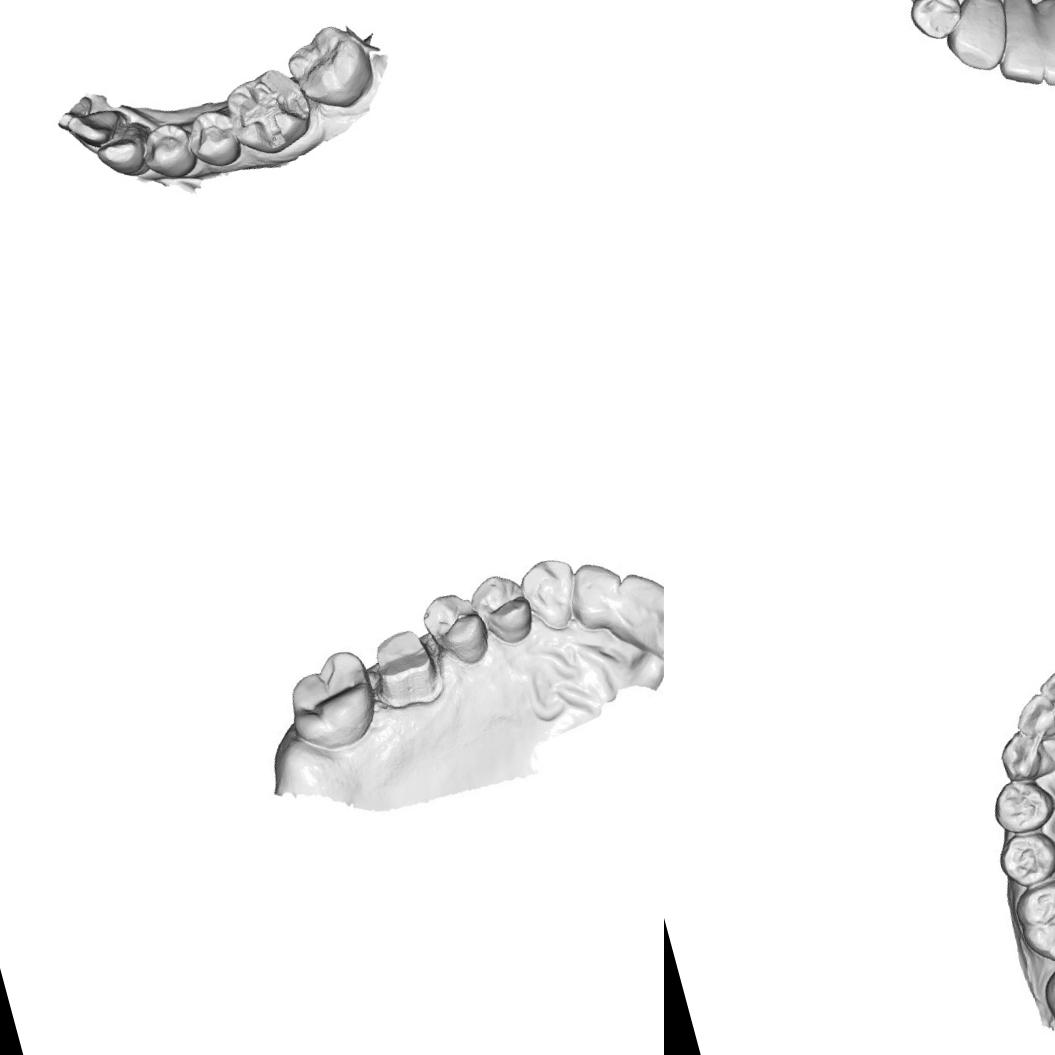canine: (516, 550, 586, 639), (938, 3, 1014, 80), (992, 723, 1055, 786), (92, 128, 150, 184)
crown: (362, 619, 446, 714)
incisor: (562, 550, 635, 638), (992, 35, 1050, 94), (1006, 686, 1055, 751), (62, 104, 120, 153), (1032, 658, 1055, 725), (1032, 37, 1055, 93)
inlay: (230, 70, 317, 155)
molar: (274, 644, 386, 760), (278, 15, 381, 120), (1008, 871, 1055, 970), (1034, 946, 1055, 1047)
premolar: (419, 583, 495, 676), (466, 564, 538, 650), (984, 769, 1055, 838), (136, 116, 202, 187), (180, 103, 245, 174), (991, 824, 1055, 893), (900, 0, 968, 43)
